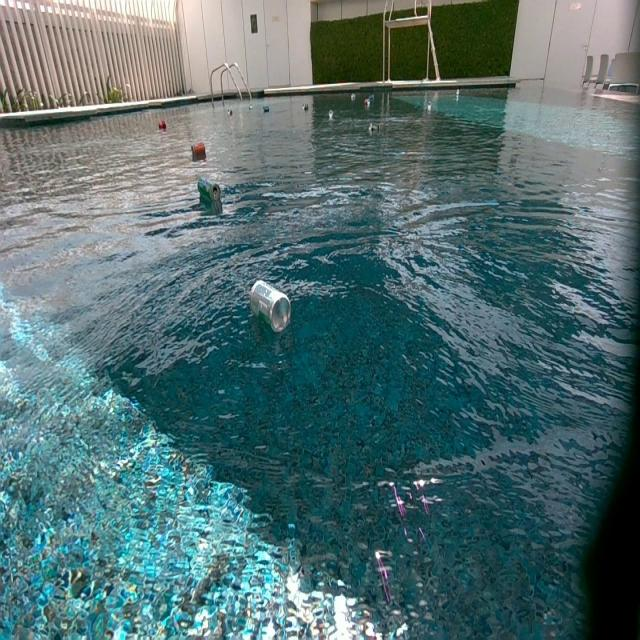Cans: (251, 280, 294, 334), (198, 179, 222, 204), (190, 140, 204, 156), (367, 124, 379, 138), (159, 118, 168, 130), (362, 100, 372, 108), (303, 103, 311, 112), (264, 105, 272, 114), (366, 95, 374, 103), (425, 102, 432, 111), (226, 108, 233, 117), (327, 110, 333, 118), (351, 94, 356, 102), (455, 92, 461, 98), (248, 105, 253, 112)
